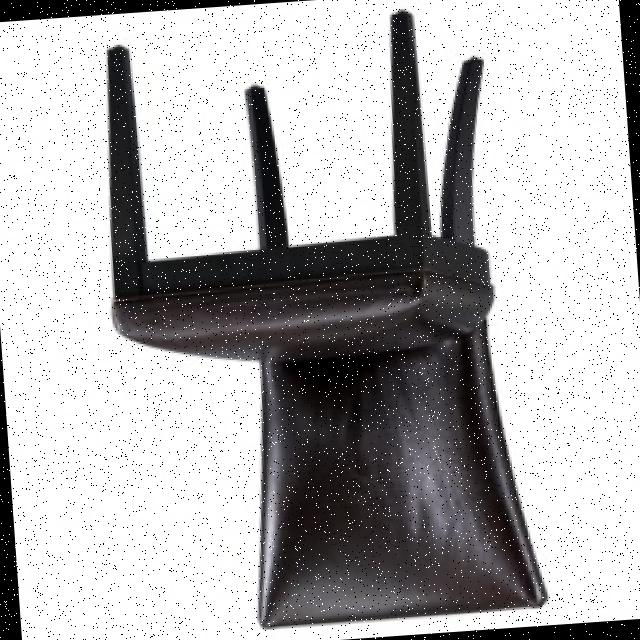Chair: (40, 1, 612, 640)
